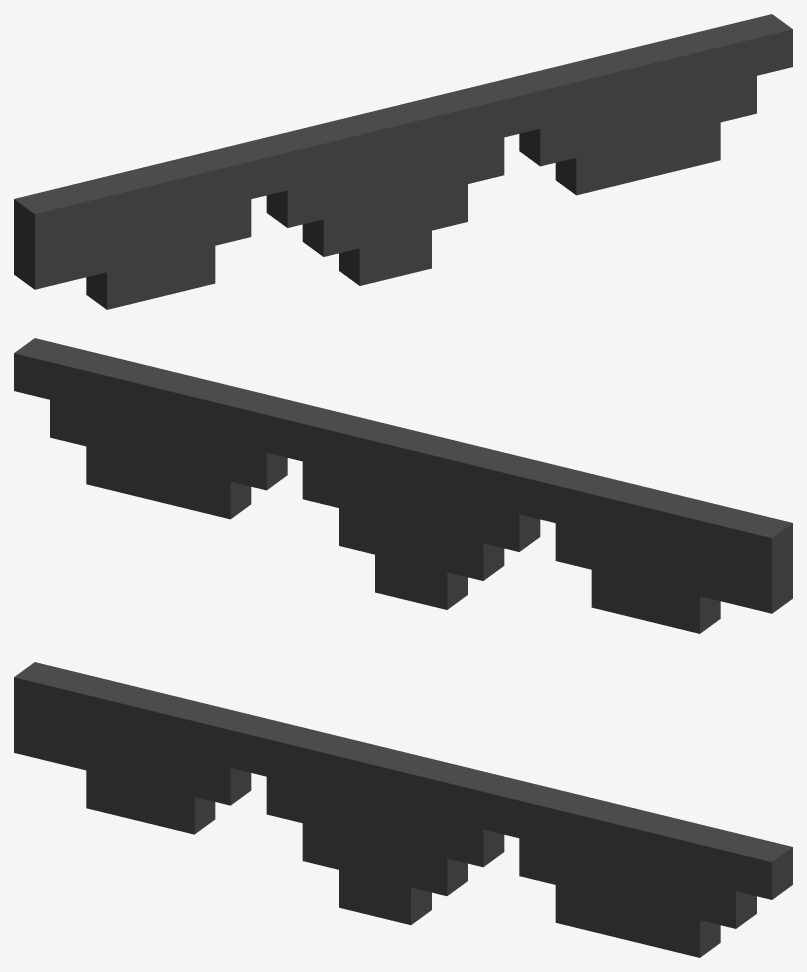
File: ledgeSnowOneSide.obj
3 views of the same model, one above another, from view 1: azimuth 30°, elevation 25°; view 2: azimuth 150°, elevation 25°; view 3: azimuth 330°, elevation 25° (orthographic).
Size of the model in its own units: 2.1 by 0.4 by 0.1.
